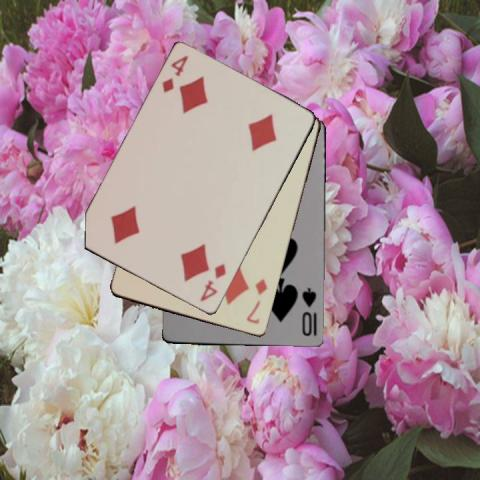10s: (299, 286, 318, 338)
4d: (197, 261, 228, 303), (159, 53, 190, 95)
7d: (244, 276, 270, 326)
